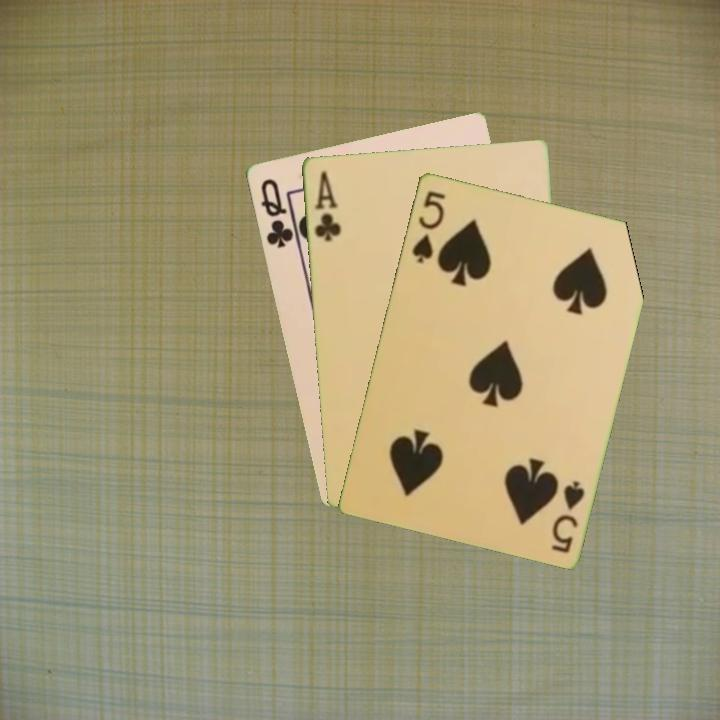5s: (547, 476, 587, 556), (408, 187, 448, 266)
Ac: (310, 167, 343, 244)
Qc: (256, 175, 300, 251)
